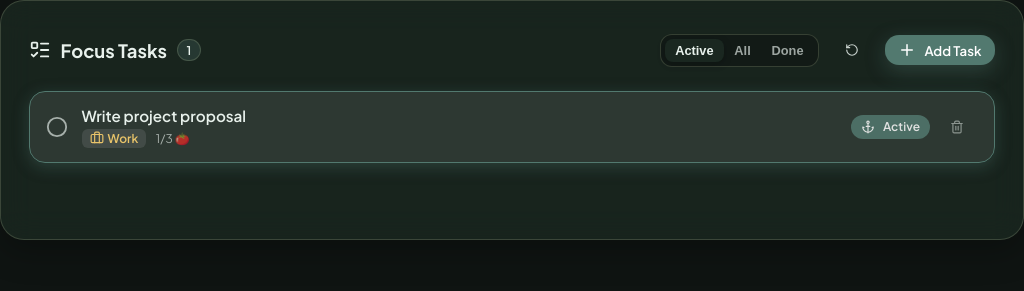
when TaskList is rendered › should switch filter tabs to display all or completed tasks
Click the button "Done": point(788, 50) [761, 38, 814, 62]
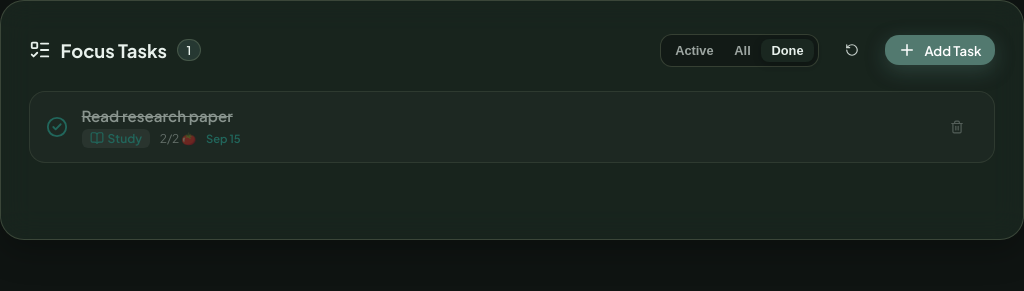
Now the text "Read research paper" is shown, box [82, 106, 233, 125]
Click the button "All": point(743, 50) [724, 38, 761, 62]
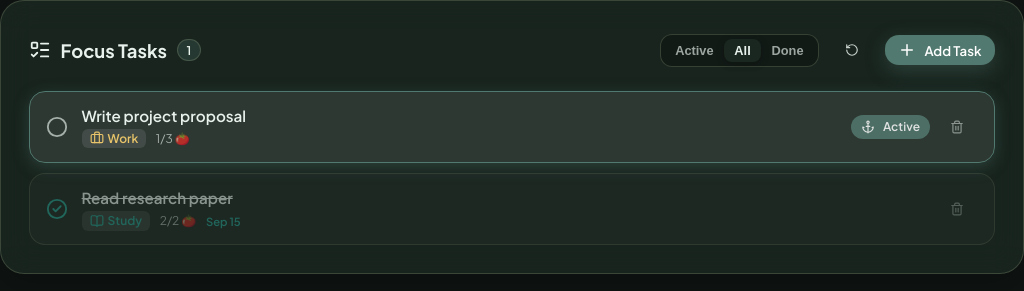
Now the text "Read research paper" is shown, box [82, 188, 233, 207]
Now the text "Write project proposal" is shown, box [82, 106, 246, 125]
